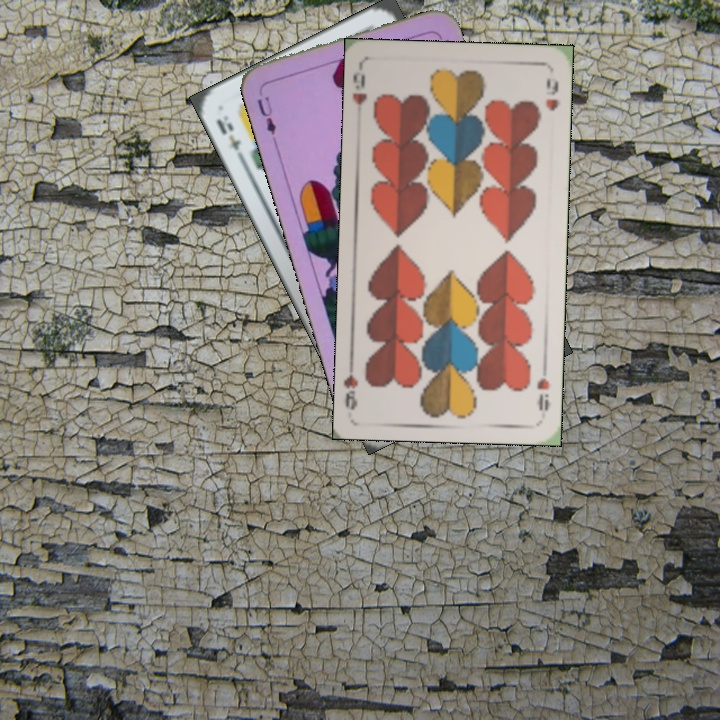EK: (212, 111, 248, 165)
EU: (253, 92, 279, 137)
H9: (533, 360, 553, 414), (350, 70, 369, 108)
